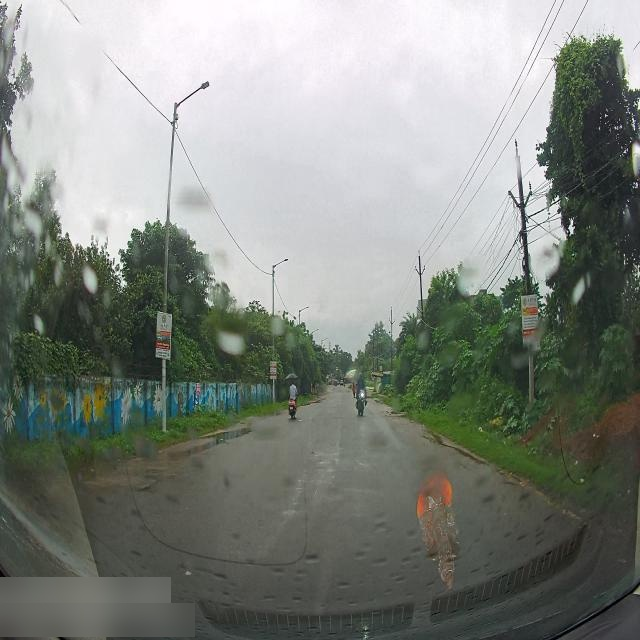pothole: (200, 426, 258, 444), (450, 443, 488, 469), (174, 446, 228, 459), (496, 466, 522, 489), (420, 425, 447, 447), (384, 411, 404, 420), (308, 401, 325, 405), (318, 396, 327, 401)
